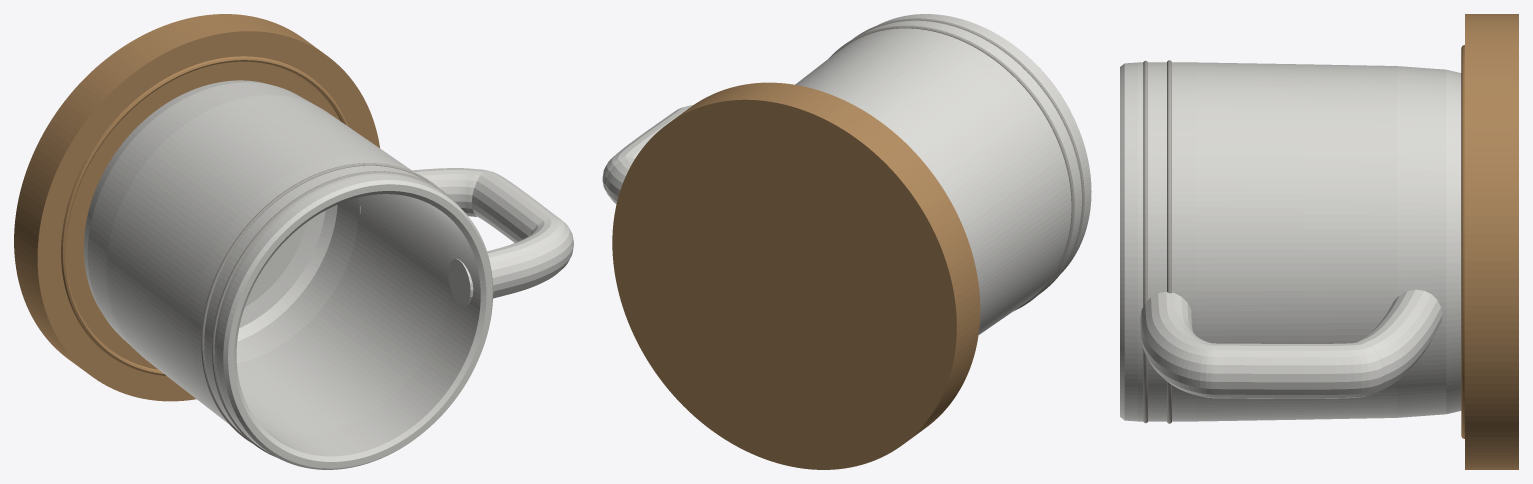
The model's file is matched_white_ceramic_mug.glb.
3 renders of one model, left to right at view 1: azimuth 30°, elevation 25°; view 2: azimuth 150°, elevation 25°; view 3: azimuth 270°, elevation 25°, orthographic. The views are drawn at different scales.
Parts seen in each view (by area): view 1: Hollow_white_ceramic_mug, Wooden_coaster, Mug_handle, Coaster_inset_ring, Rim_band_2, Rim_band_1; view 2: Wooden_coaster, Hollow_white_ceramic_mug, Rim_band_2, Mug_handle, Rim_band_1; view 3: Hollow_white_ceramic_mug, Wooden_coaster, Mug_handle, Coaster_inset_ring, Rim_band_1, Rim_band_2.
Part boxes in pixels (box(x1,y1,x2,y2)): Hollow_white_ceramic_mug: box(83, 80, 493, 469); Wooden_coaster: box(14, 14, 379, 401); Mug_handle: box(360, 168, 573, 305); Coaster_inset_ring: box(61, 56, 348, 375); Rim_band_2: box(201, 163, 439, 443); Rim_band_1: box(212, 171, 460, 457); Wooden_coaster: box(612, 82, 980, 469); Hollow_white_ceramic_mug: box(795, 14, 1091, 334); Rim_band_2: box(829, 25, 1074, 310); Mug_handle: box(602, 104, 693, 204); Rim_band_1: box(853, 18, 1084, 294); Hollow_white_ceramic_mug: box(1120, 62, 1461, 421); Wooden_coaster: box(1465, 14, 1518, 469); Mug_handle: box(1140, 289, 1442, 398); Coaster_inset_ring: box(1461, 45, 1464, 438); Rim_band_1: box(1143, 60, 1147, 423); Rim_band_2: box(1167, 60, 1171, 423).
Size of the model in its own units: 3.12 by 2.54 by 2.22.
